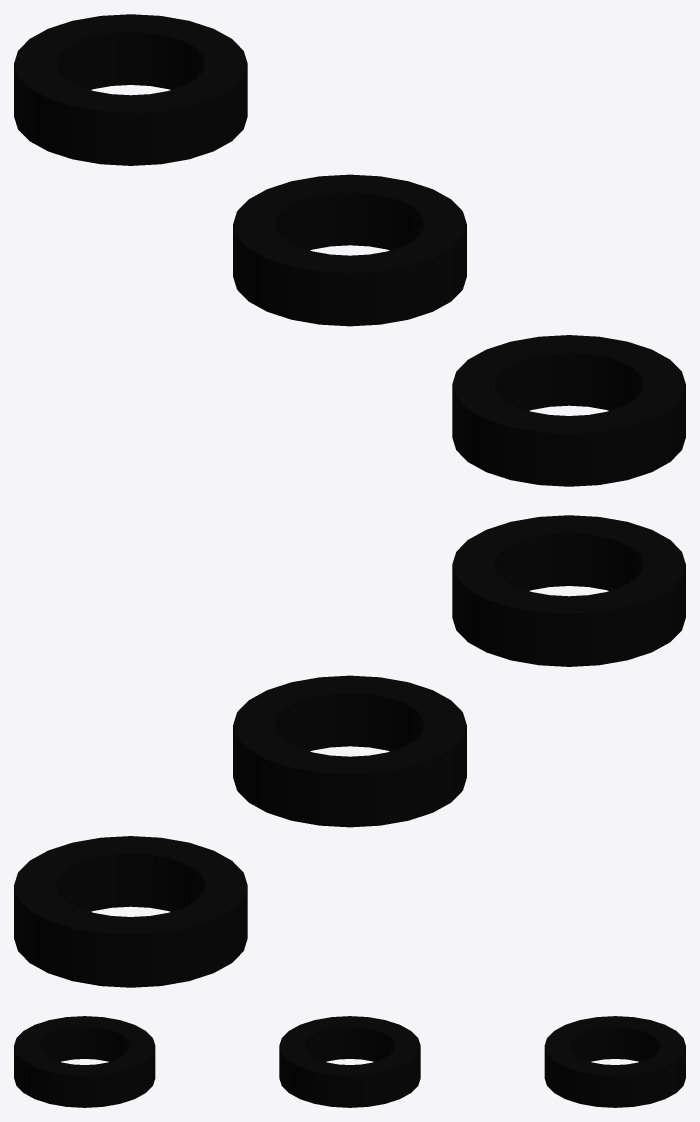
File: pathway.obj
3 views of the same model, one above another, from view 1: azimuth 30°, elevation 25°; view 2: azimuth 150°, elevation 25°; view 3: azimuth 270°, elevation 25° (orthographic). The views are drawn at different scales.
Parts seen in each view (by area): view 1: Cylinder, Cylinder.001_Cylinder, Cylinder.002_Cylinder; view 2: Cylinder, Cylinder.001_Cylinder, Cylinder.002_Cylinder; view 3: Cylinder, Cylinder.001_Cylinder, Cylinder.002_Cylinder.
Boxes of the visible parts, x1=… form: Cylinder: x1=233, y1=174, x2=466, y2=326; Cylinder.001_Cylinder: x1=14, y1=14, x2=247, y2=165; Cylinder.002_Cylinder: x1=452, y1=335, x2=685, y2=486; Cylinder: x1=233, y1=675, x2=466, y2=827; Cylinder.001_Cylinder: x1=14, y1=836, x2=247, y2=987; Cylinder.002_Cylinder: x1=452, y1=515, x2=685, y2=666; Cylinder: x1=279, y1=1016, x2=420, y2=1107; Cylinder.001_Cylinder: x1=544, y1=1016, x2=685, y2=1107; Cylinder.002_Cylinder: x1=14, y1=1016, x2=155, y2=1107.
Size of the model in its own units: 0.08 by 0.02 by 0.38.
Materials: 1 (1 with a texture image).
